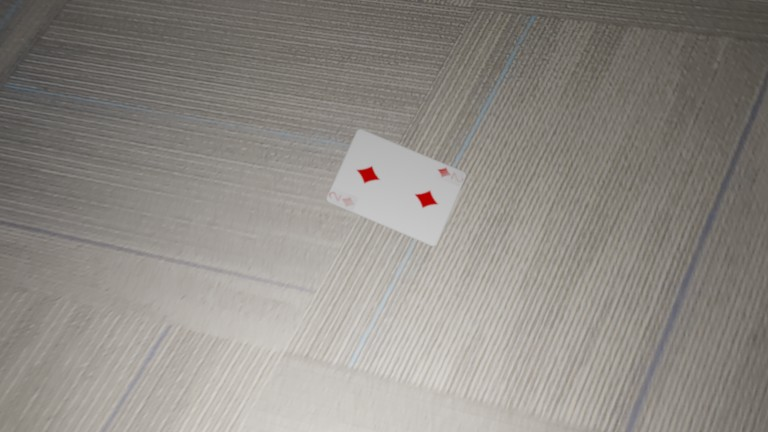2_of_diamonds: (434, 163, 465, 187), (327, 187, 358, 211)
